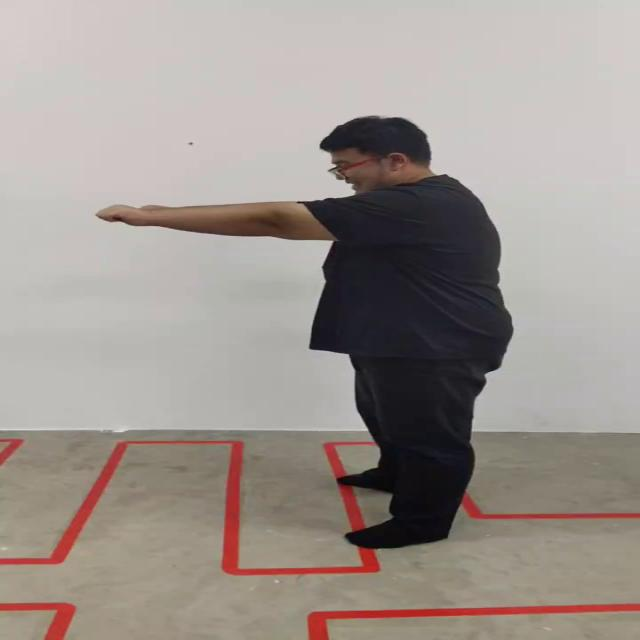stand: (98, 116, 514, 550)
